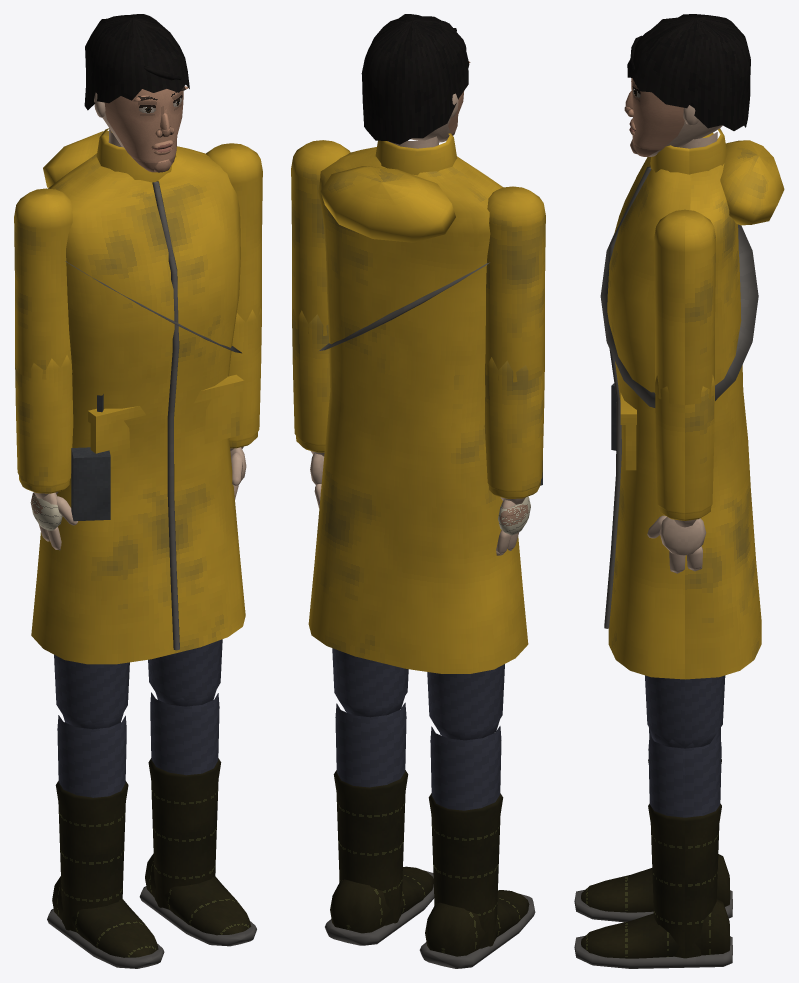
The model's file is char_elena.glb.
The picture shows the model from 3 angles, left to right: view 1: azimuth 30°, elevation 25°; view 2: azimuth 150°, elevation 25°; view 3: azimuth 270°, elevation 25°; orthographic projection. The views are drawn at different scales.
Parts seen in each view (by area): view 1: Spine, ShinL, ShinR, Head, UpperArmR, ForearmR, FootL, FootR, UpperArmL, ThighR, ThighL, ForearmL (+1 smaller); view 2: Spine, ShinR, ShinL, Head, UpperArmR, ForearmR, UpperArmL, FootR, FootL, ThighR, ForearmL, ThighL (+1 smaller); view 3: Spine, Head, ShinL, UpperArmL, ForearmL, FootL, ThighL, FootR, HandL.
Part boxes in pixels (x1,y1,x2,y2): Spine: (31, 128, 245, 664); ShinL: (148, 690, 221, 909); ShinR: (55, 713, 128, 932); Head: (84, 14, 189, 172); UpperArmR: (14, 188, 72, 379); ForearmR: (15, 355, 73, 498); FootL: (139, 853, 256, 946); FootR: (47, 876, 164, 968); UpperArmL: (206, 143, 262, 332); ThighR: (54, 654, 129, 723); ThighL: (148, 639, 222, 700); ForearmL: (229, 308, 261, 451); Spine: (308, 133, 542, 673); ShinR: (428, 720, 503, 948); ShinL: (333, 696, 408, 925); Head: (361, 14, 470, 148); UpperArmR: (485, 186, 545, 382); ForearmR: (484, 357, 544, 504); UpperArmL: (291, 140, 350, 335); FootR: (419, 890, 535, 968); FootL: (325, 866, 434, 945); ThighR: (427, 664, 504, 740); ForearmL: (292, 309, 330, 456); ThighL: (332, 648, 408, 717); Spine: (600, 128, 784, 679); Head: (624, 14, 750, 156); ShinL: (648, 727, 721, 958); UpperArmL: (654, 209, 715, 405); ForearmL: (655, 375, 714, 527); FootL: (574, 899, 732, 968); ThighL: (645, 675, 725, 747); FootR: (574, 854, 732, 922); HandL: (647, 515, 706, 573).
Bounding box in the file's own units: 0.4992 × 1.79 × 0.3701.
10 materials, 10 textured.
